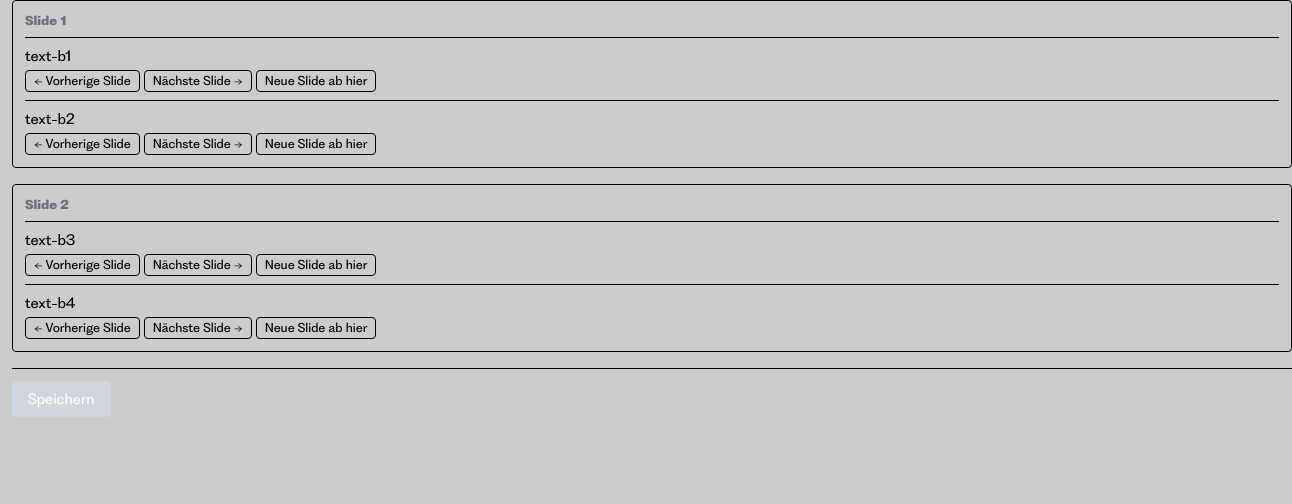
Test: LayoutEditor › C-9: Save 412 → layout_modified banner (save still enabled for retry)
expect the text "text-b1" is shown: met, box 25,47 -> 71,65
Step 1. Click the button "Nächste Slide →" below "text-b1" → (198,81), box 144,70 -> 252,92
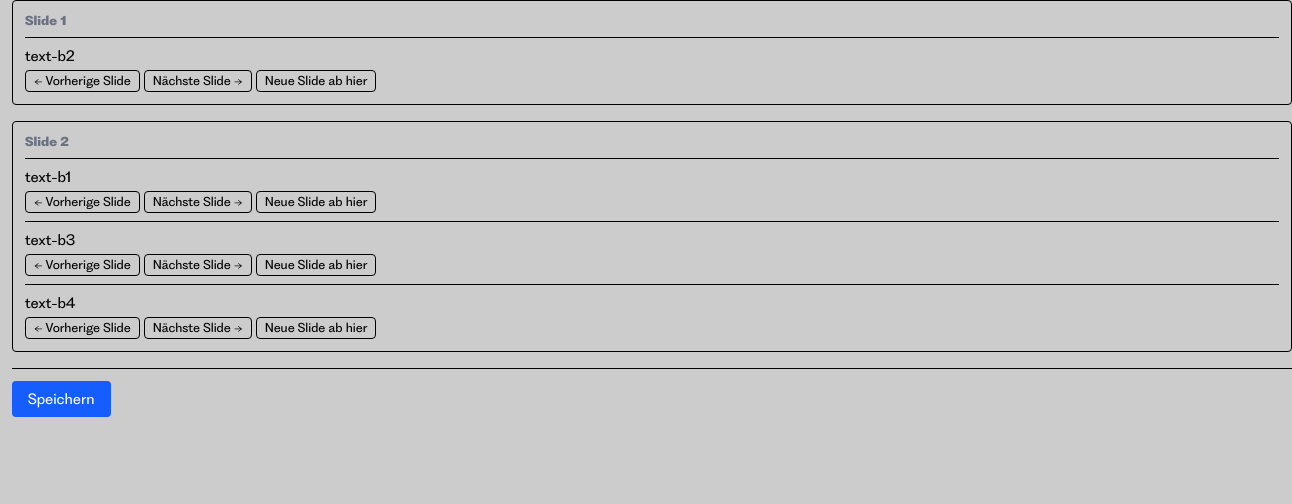
expect the button "Speichern" is enabled: met
Step 2. Click the button "Speichern" → (61,399), box 12,381 -> 110,417
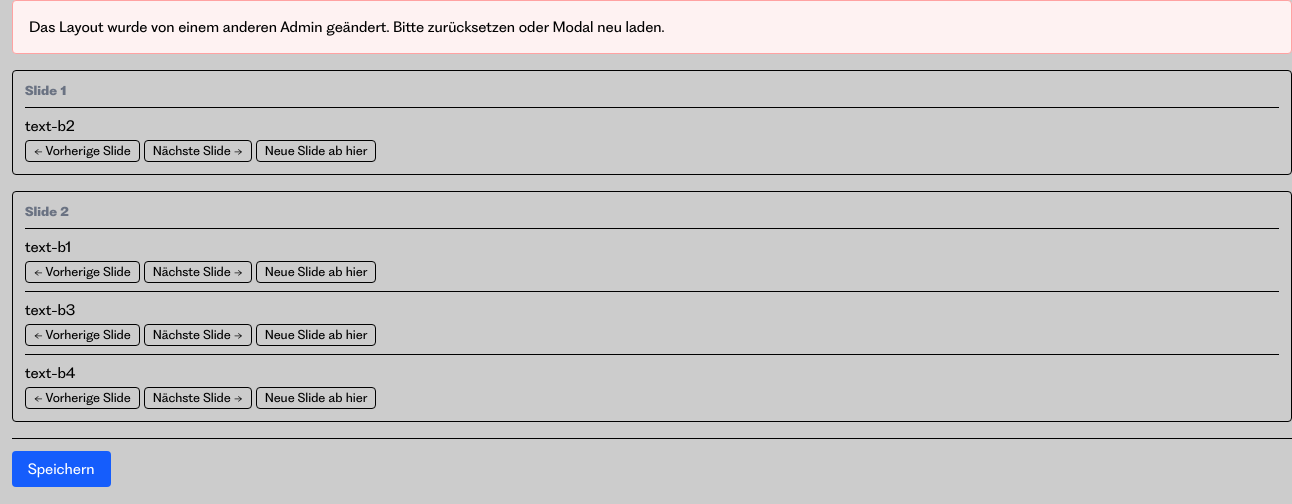
expect the button "Speichern" is enabled: met, box 12,451 -> 110,487
expect the text "Layout wurde von einem anderen Admin geändert" is shown: met, box 29,18 -> 664,36
